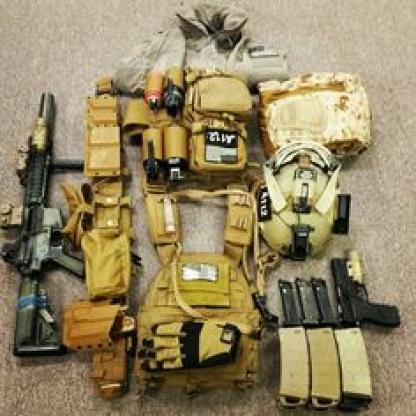Grenade: (164, 126, 189, 184), (141, 127, 165, 181), (141, 69, 164, 112), (165, 70, 184, 114)
Gun: (1, 90, 86, 358)
Pistol: (329, 249, 403, 329)
